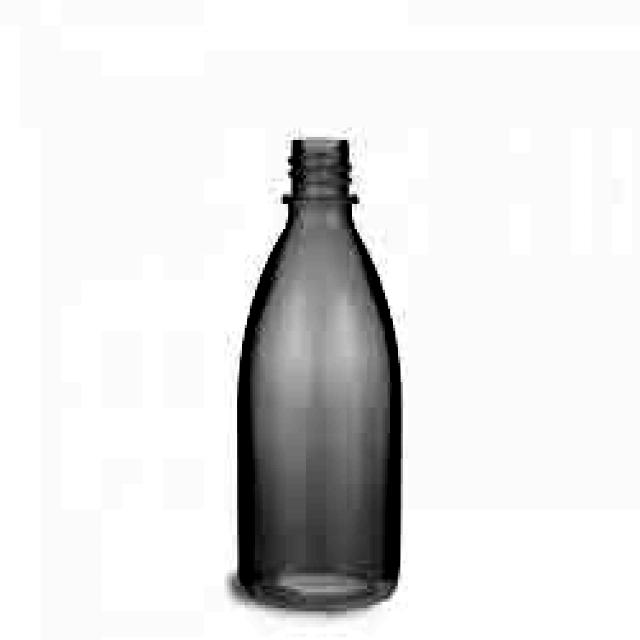Plastic: (234, 126, 403, 624)
